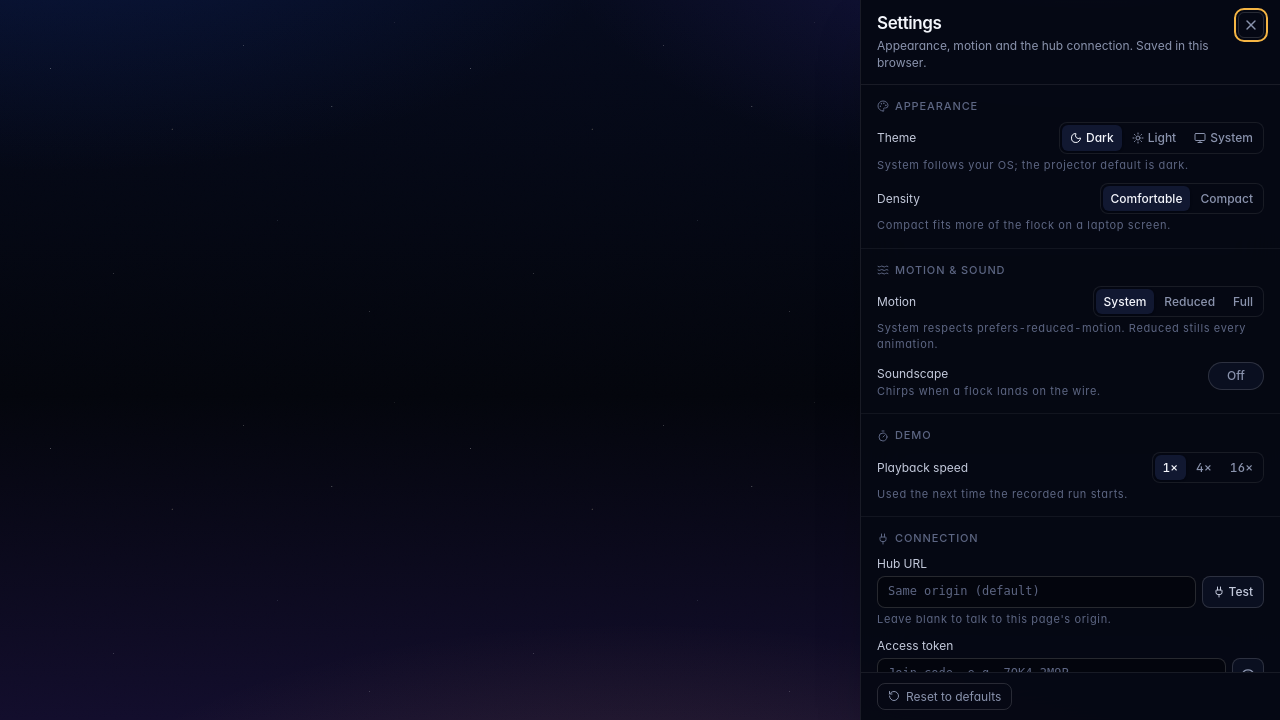
Test: SettingsDrawer › Test probes the typed hub and reports success
Type "http://localhost:7777" into the field labelled "Hub URL". click: [1036, 592]
box: left=877, top=576, right=1196, bottom=608
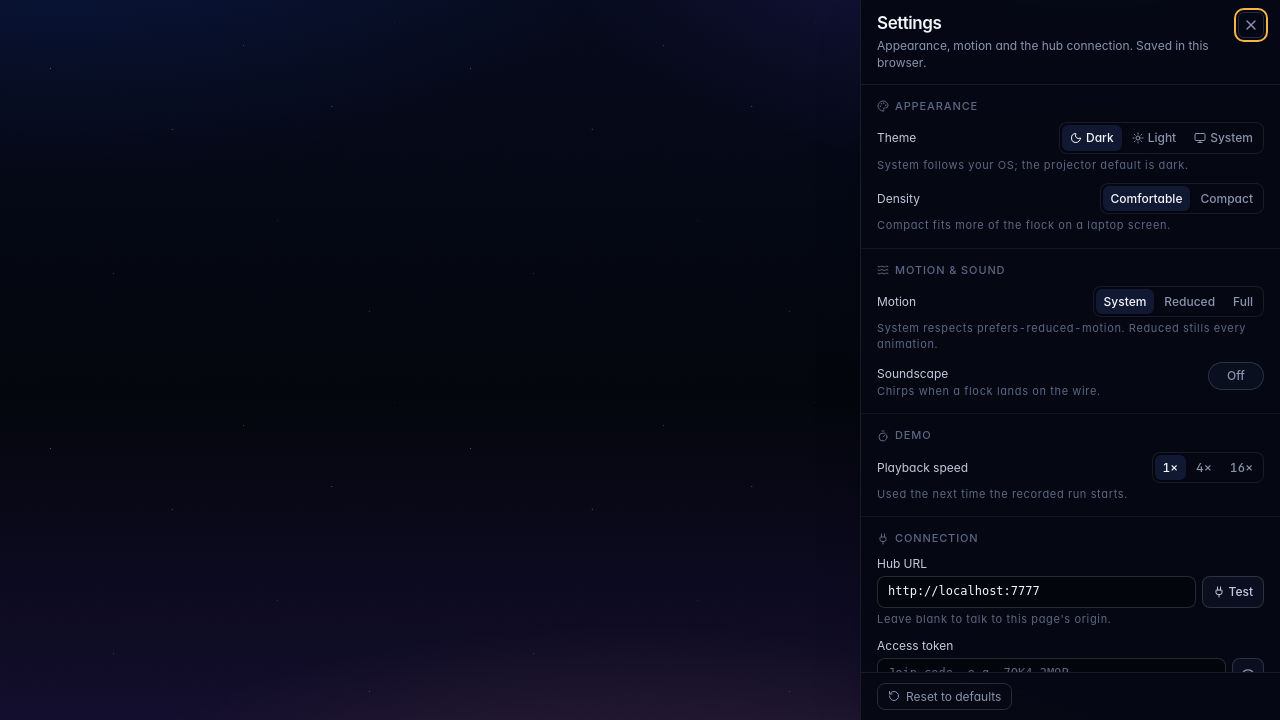
Click the button "Test". click: [1233, 592]
box: left=1202, top=576, right=1264, bottom=608
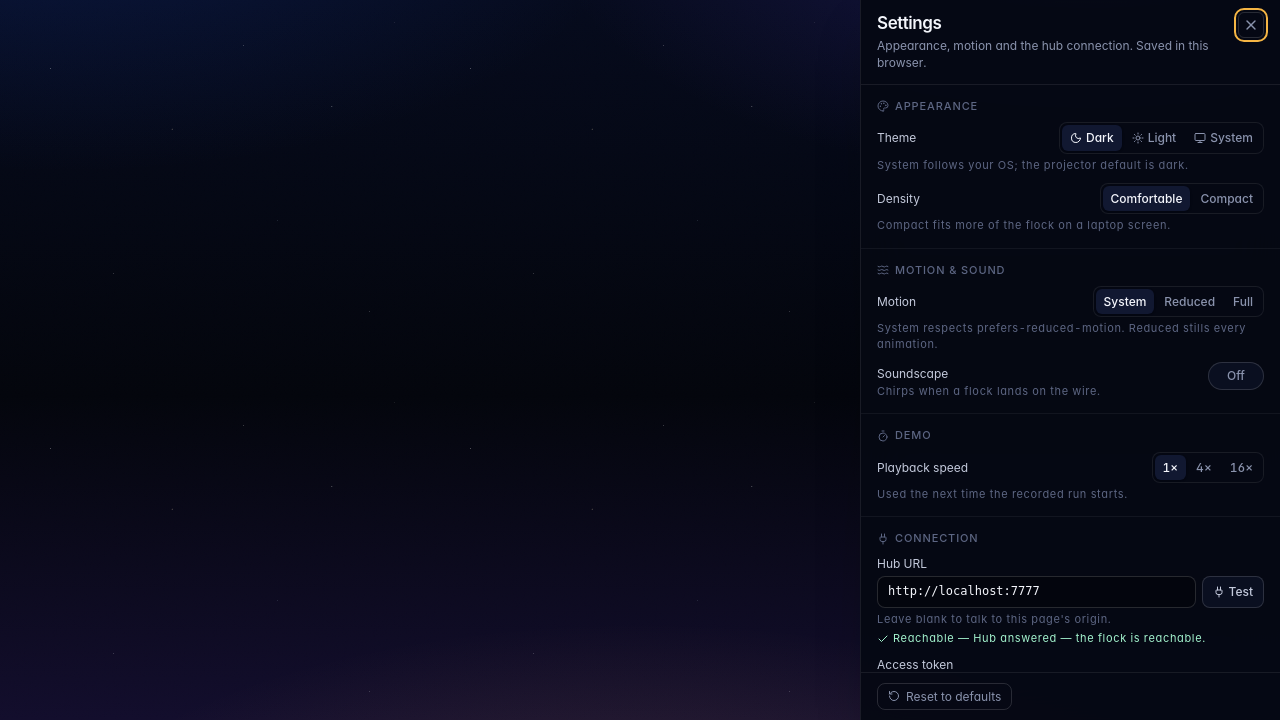
Expected: the message with test id "health-status" shows "Reachable", left=893, top=631, right=954, bottom=645
